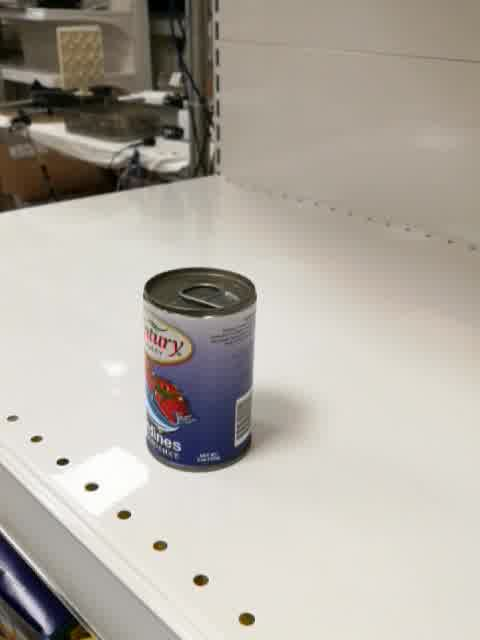sardine: (142, 263, 260, 473)
